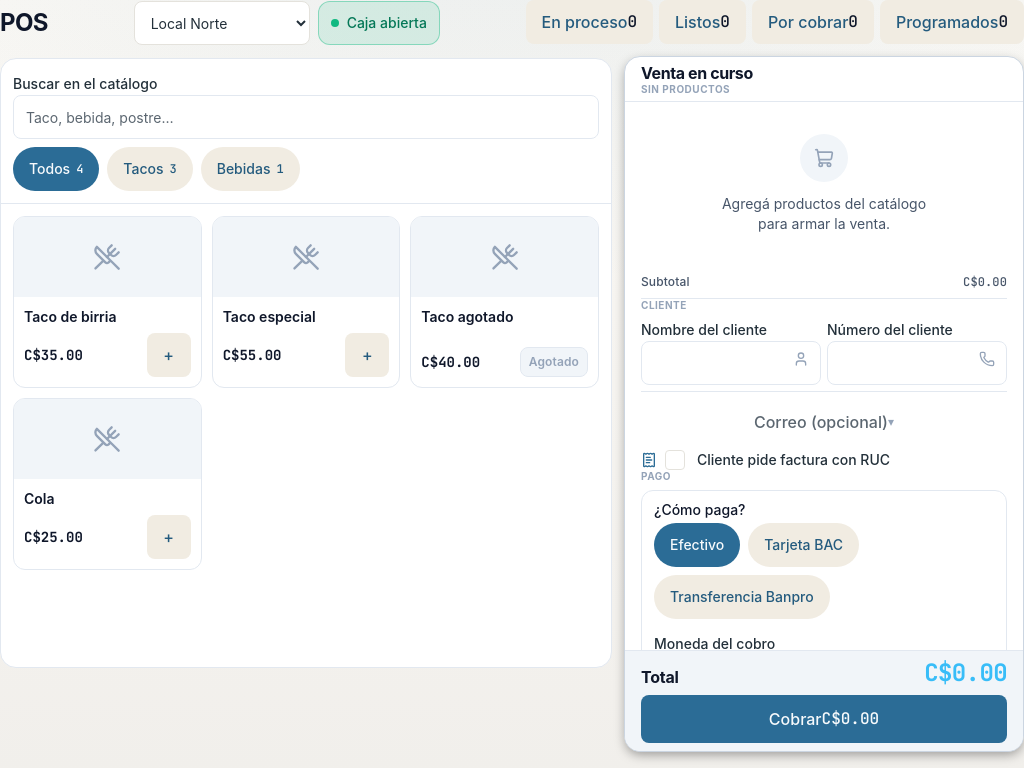
Test: PosClient › el total incluye el empaque del producto (TASK-303b)
Check: the text "Taco de birria" is shown, box [24,308,116,325]
Click the button named "Agregar Taco de birria a la venta" at (169, 355), box [147,333,191,377]
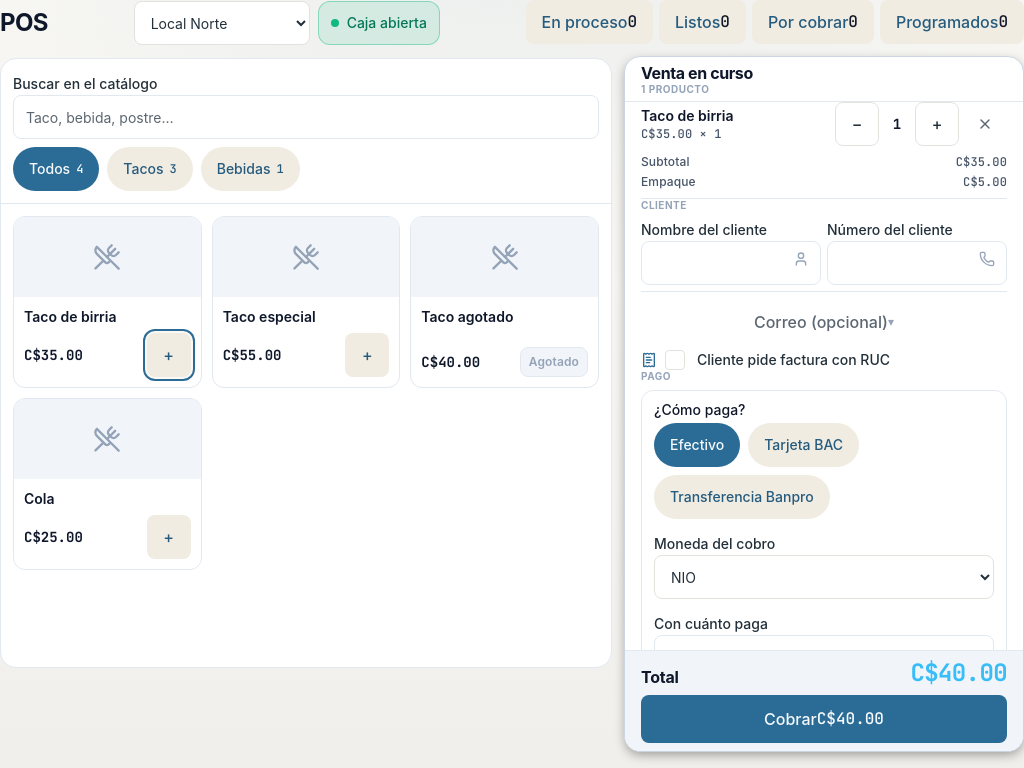
Check: the text "Taco de birria" below "1 producto" is shown, box [641,107,734,124]
Check: the text "Empaque" is shown, box [641,174,696,190]
Check: the button "Cobrar C$40.00" is shown, box [641,695,1007,743]
